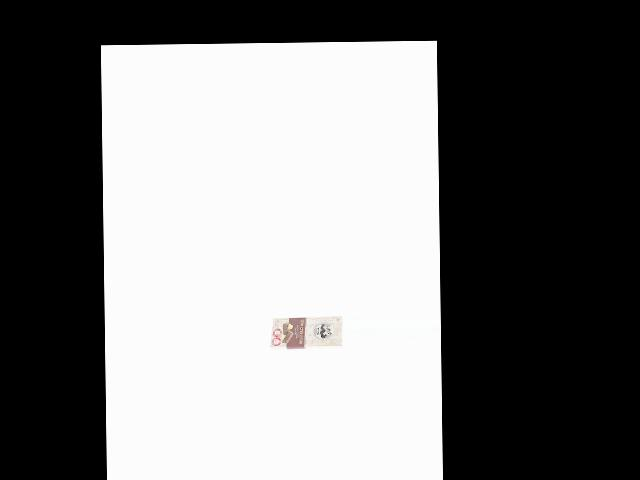chocolate: (268, 315, 342, 355)
